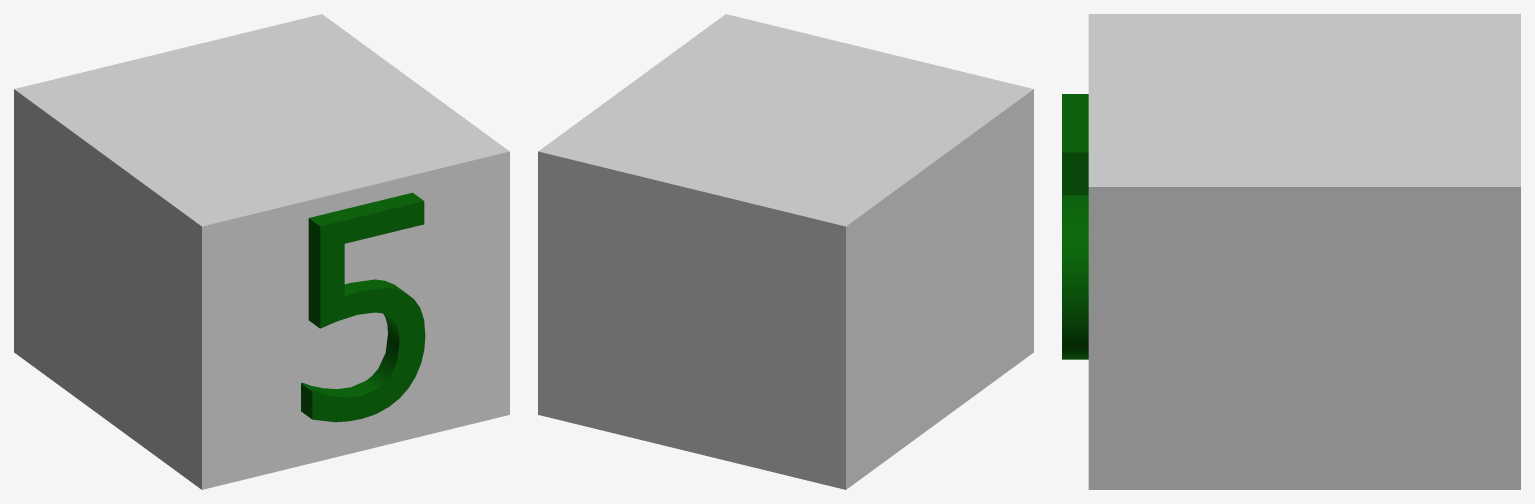
The model's file is SurveyAnswerCube5.fbx.
3 views of the same model, side by side, from view 1: azimuth 30°, elevation 25°; view 2: azimuth 150°, elevation 25°; view 3: azimuth 270°, elevation 25° (orthographic). The views are drawn at different scales.
Visible parts, largest first — view 1: Model, G_5_1; view 2: Model; view 3: Model, G_5_1.
Boxes of the visible parts, bbox=[...] form: Model: bbox=[14, 14, 509, 489]; G_5_1: bbox=[301, 192, 425, 422]; Model: bbox=[538, 14, 1033, 489]; Model: bbox=[1088, 14, 1520, 489]; G_5_1: bbox=[1062, 94, 1088, 359].
Bounding box in the file's own units: 1.72 × 1.41 × 1.93.
